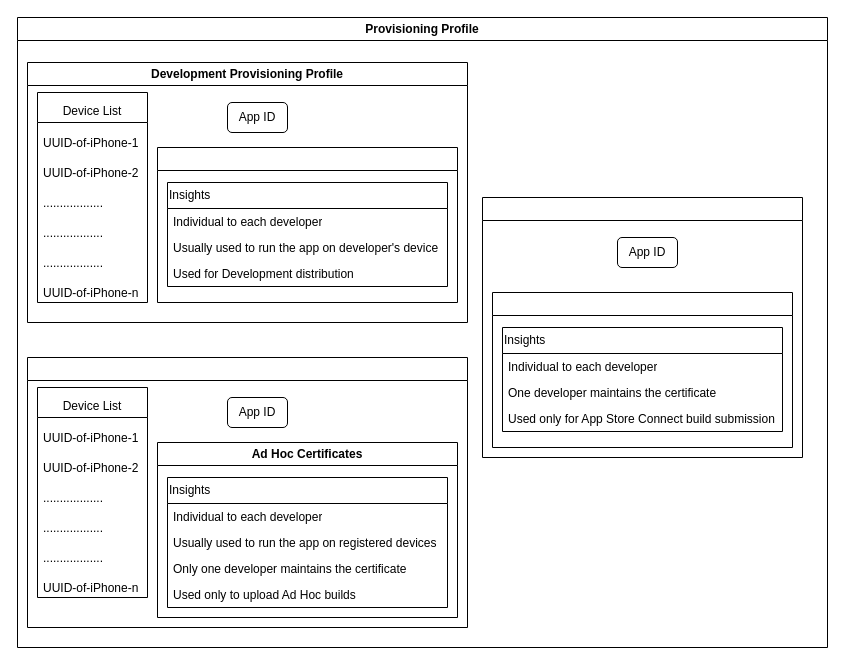
Image size: 845x665. Some labels were removed from this diagram. The shapes that lost their labels are listed below. From the top down, each one's box as (x1, y1, x2, y2) in pixels, then its label:
(156, 146, 458, 302): Development Certificates
(482, 196, 802, 458): App Store Provisioning Profile
(492, 292, 792, 448): App Store Certificates
(26, 356, 468, 628): Ad Hoc Provisioning Profile
